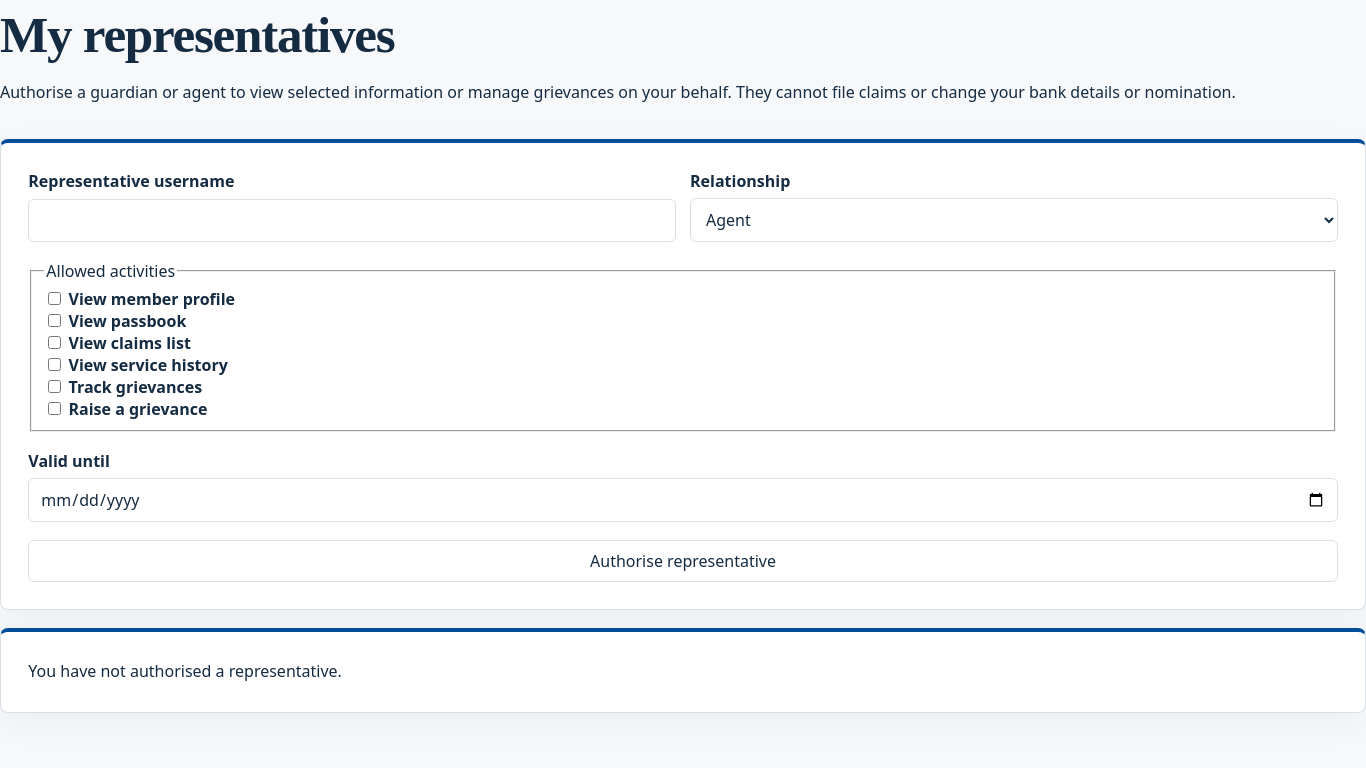
Test: representatives › grants selected scopes and lists the authorisation
Type "rep-demo" into the field labelled "Representative username".
click(352, 221); type("rep-demo")  # box [28, 199, 676, 242]
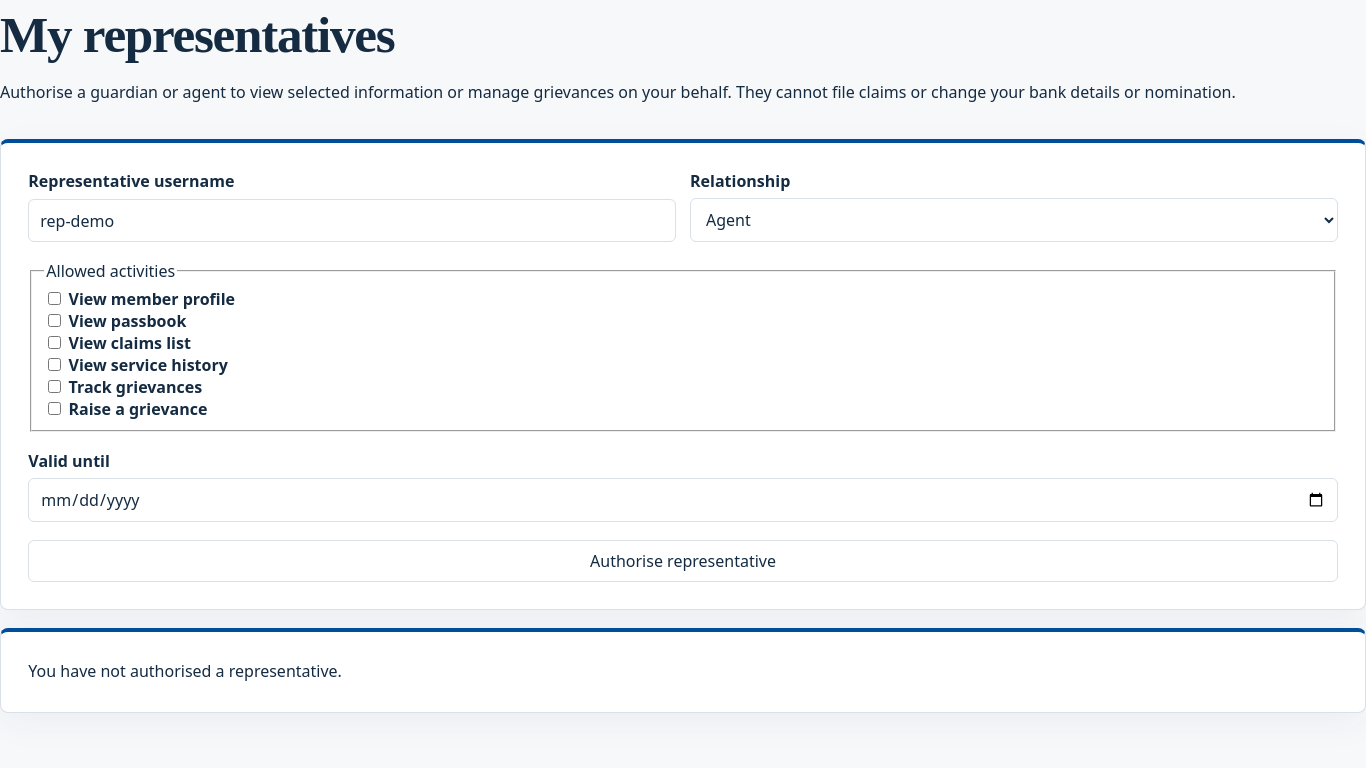
Click the checkbox labelled "View member profile".
click(55, 298)  # box [48, 292, 61, 305]
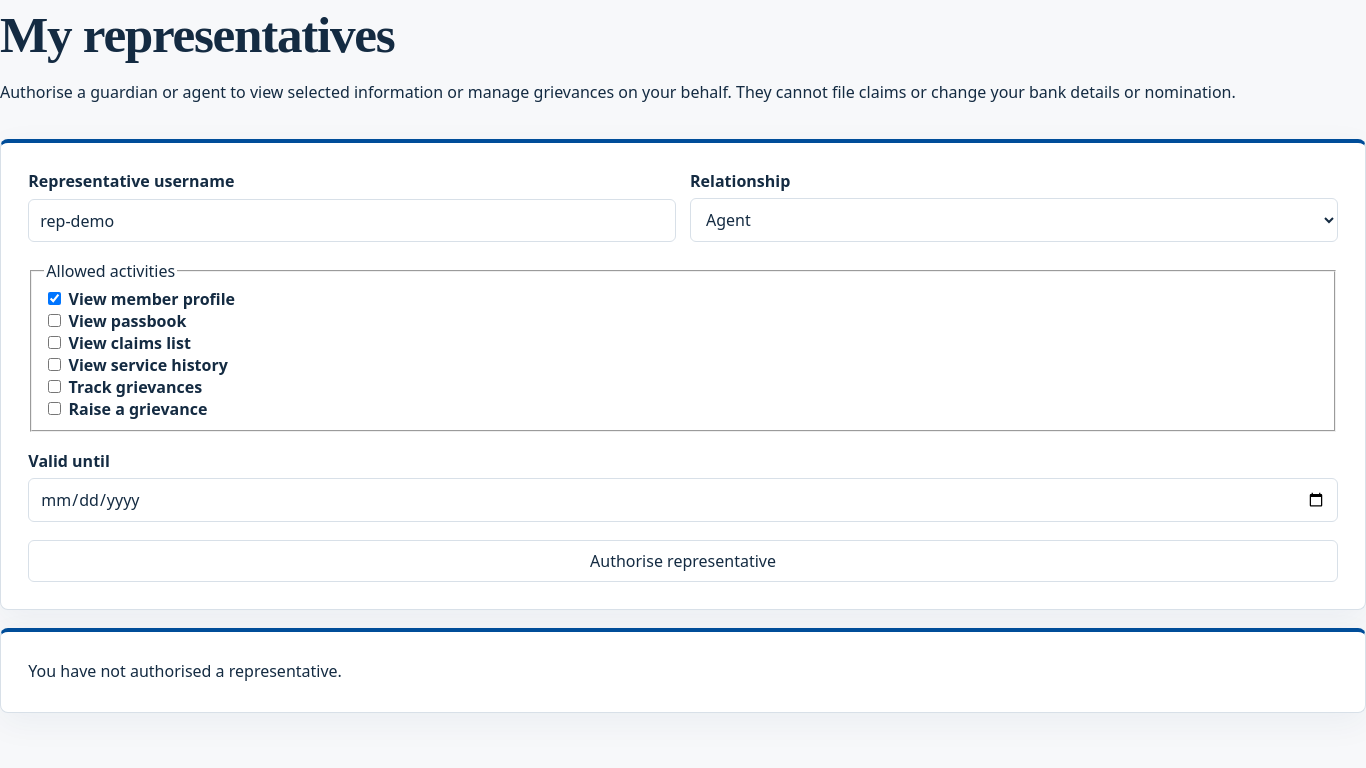
Type "2027-01-01" into the date field labelled "Valid until".
click(683, 500); type("2027-01-01")  # box [28, 478, 1338, 522]
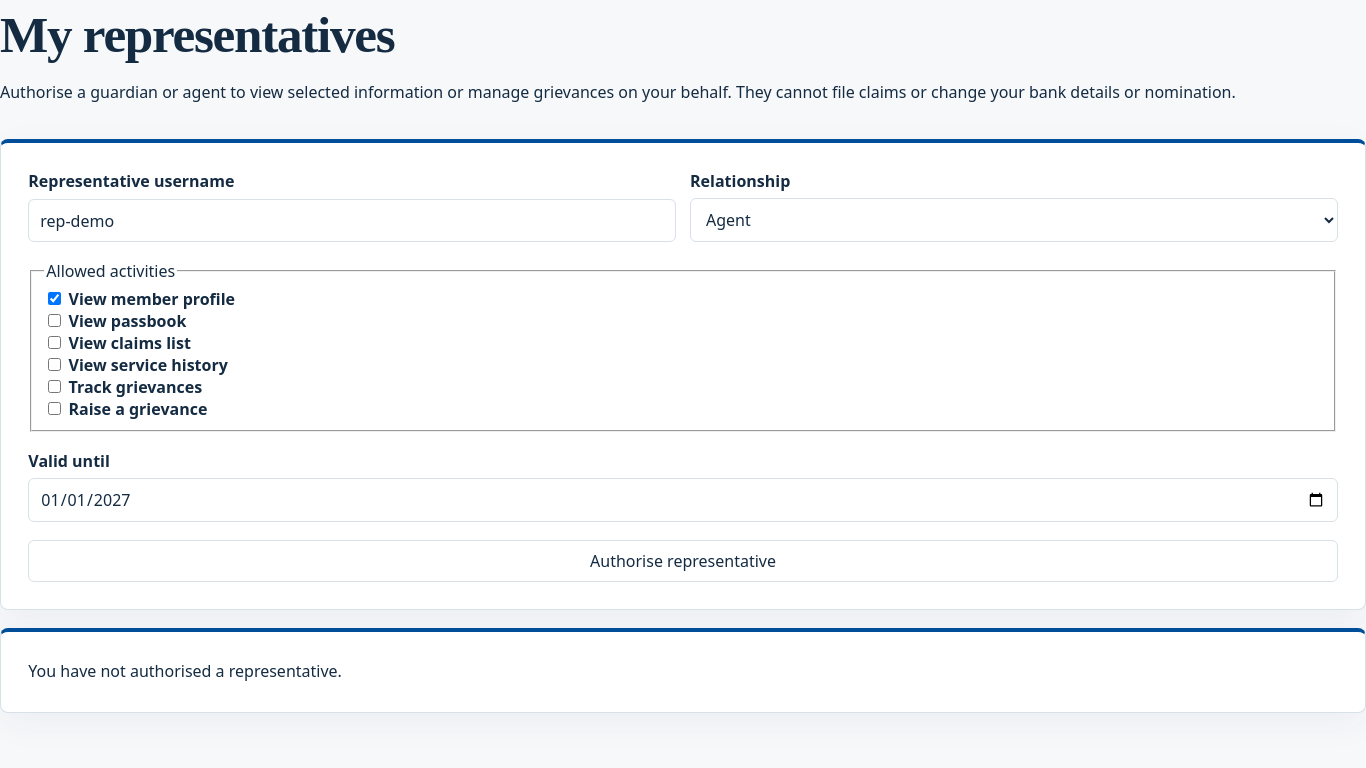
Click the button "Authorise representative".
click(683, 561)  # box [28, 540, 1338, 582]
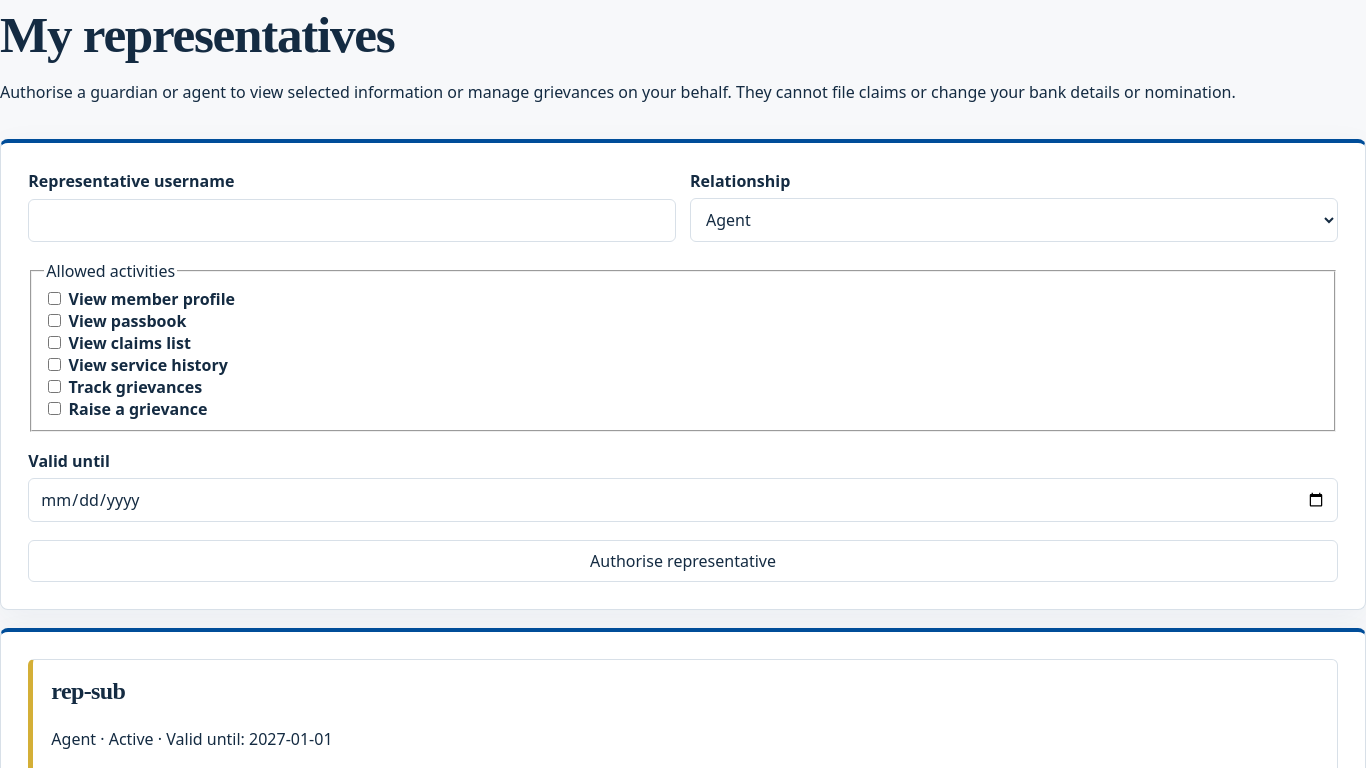
Expected: the heading "rep-sub" is shown, [51, 678, 125, 704]
